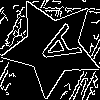A: (27, 22, 82, 74)
